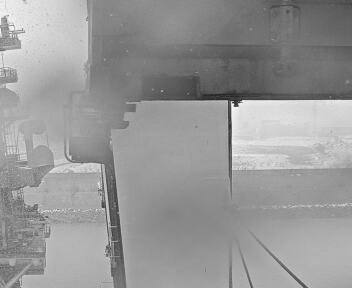twist_lock_1: (89, 96, 143, 136)
